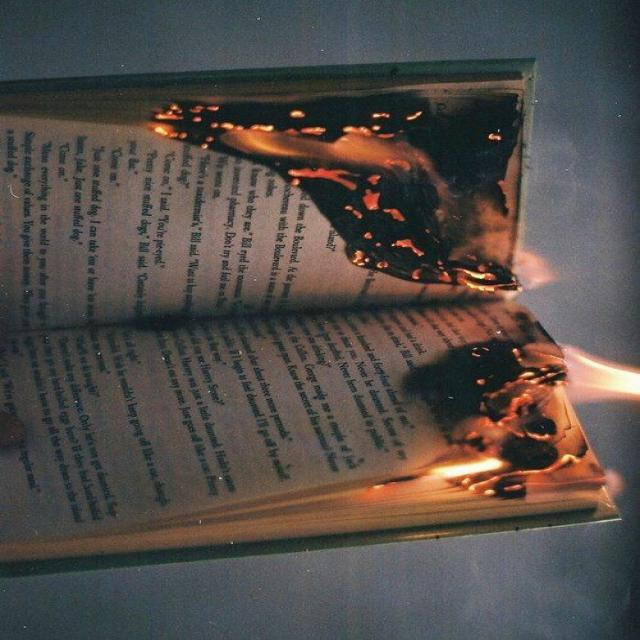Fire: (137, 97, 538, 294), (476, 332, 630, 556)
